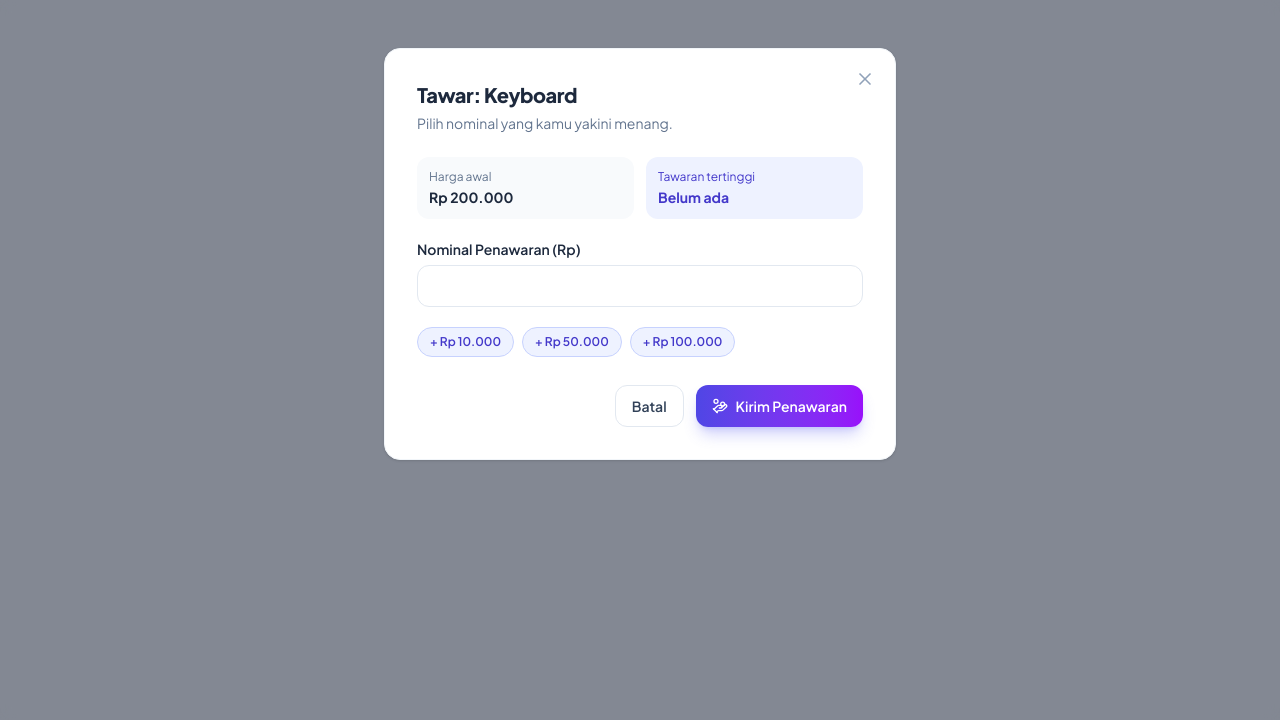
Test case: BidModal › menolak nominal di bawah harga awal saat belum ada bid
Type "100000" into the number field with id "bid-amount". click: point(640, 286)
box: [417,265,863,307]
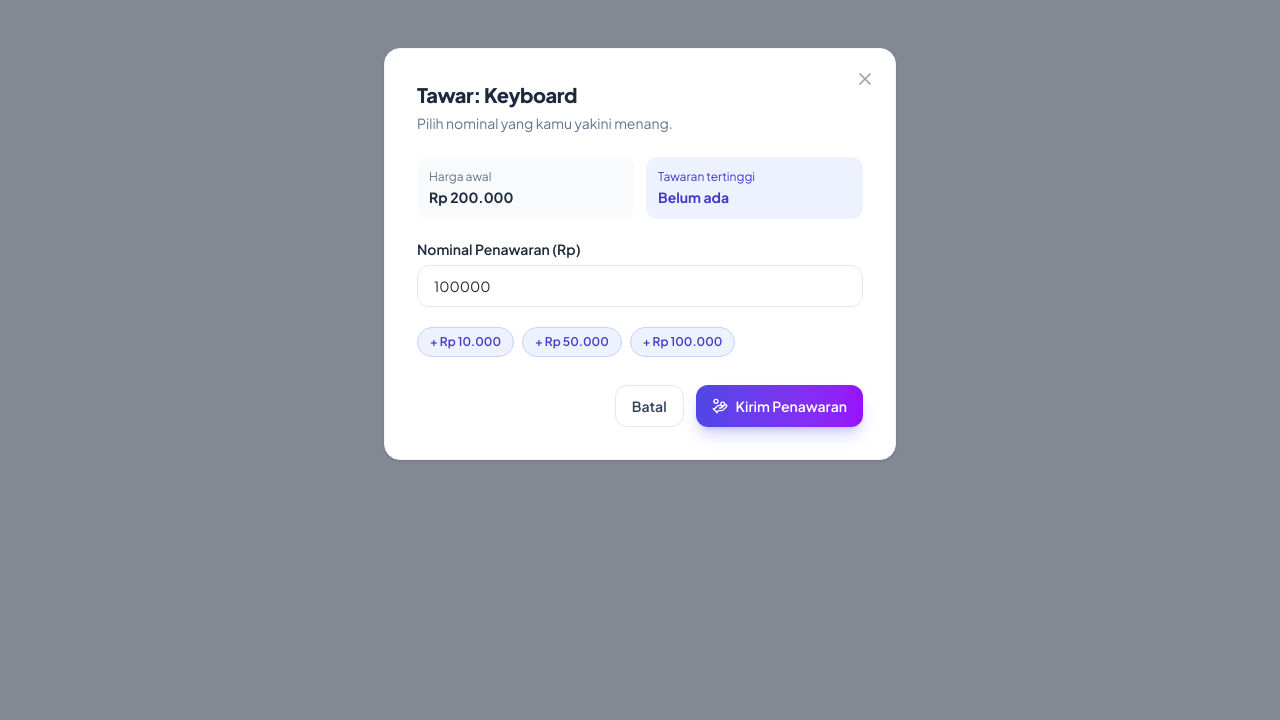
Submit the form, box [417,157,863,427]
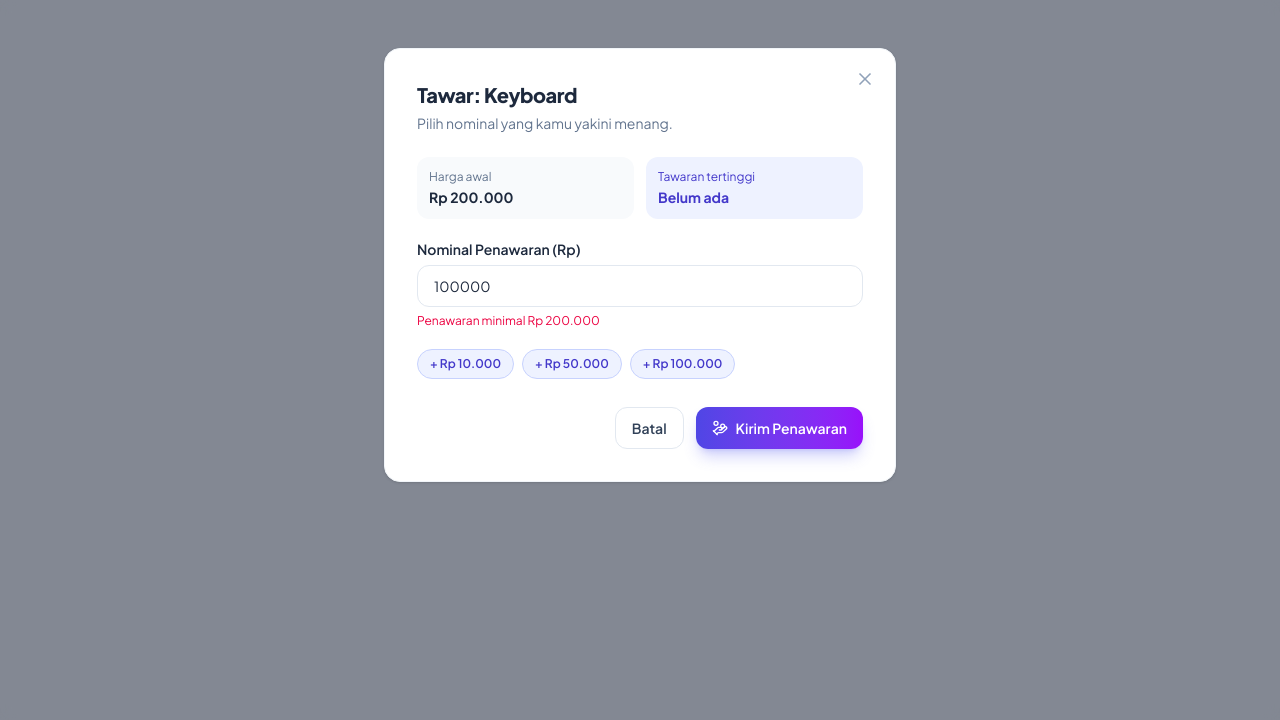
Expected: the text "Penawaran minimal" is shown, [417,313,600,328]
